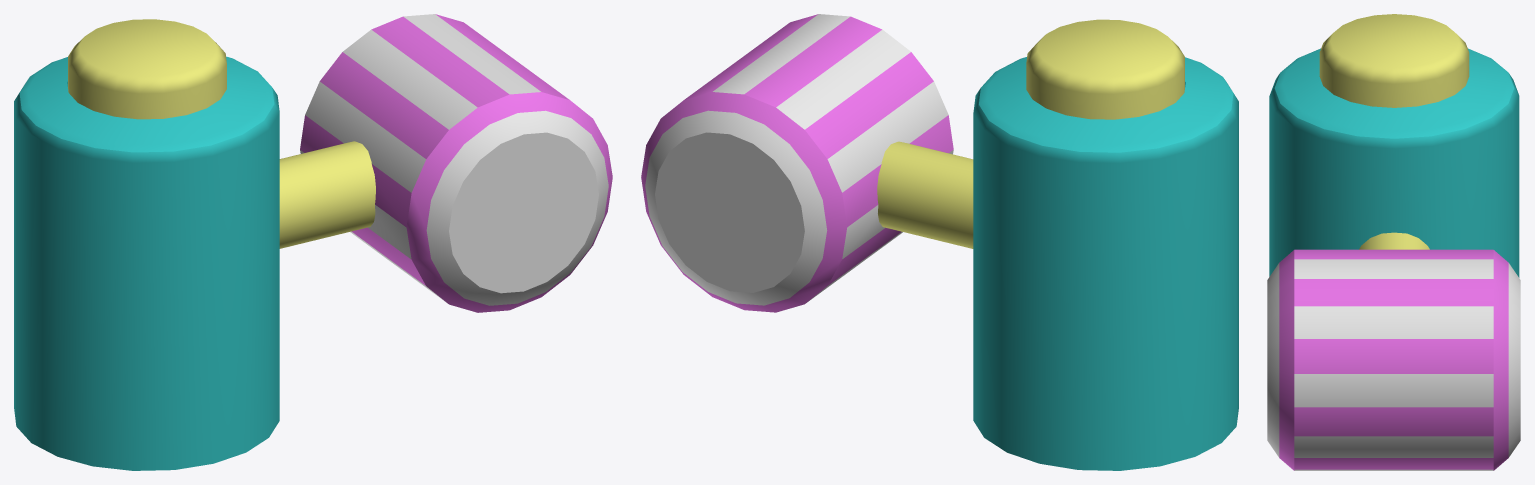
Rendered from Obstacle02.fbx.
The picture shows the model from 3 angles, left to right: view 1: azimuth 30°, elevation 25°; view 2: azimuth 150°, elevation 25°; view 3: azimuth 270°, elevation 25°; orthographic projection. The views are drawn at different scales.
Visible parts, largest first — view 1: Obstacle02_msh, Hammer_Obstacle02_msh, Turn_Obstacle02_msh; view 2: Obstacle02_msh, Hammer_Obstacle02_msh, Turn_Obstacle02_msh; view 3: Hammer_Obstacle02_msh, Obstacle02_msh, Turn_Obstacle02_msh.
Part boxes in pixels (x1=…): Obstacle02_msh: x1=14, y1=19, x2=279, y2=470; Hammer_Obstacle02_msh: x1=300, y1=14, x2=612, y2=312; Turn_Obstacle02_msh: x1=279, y1=141, x2=375, y2=248; Obstacle02_msh: x1=973, y1=19, x2=1238, y2=470; Hammer_Obstacle02_msh: x1=641, y1=14, x2=953, y2=312; Turn_Obstacle02_msh: x1=877, y1=141, x2=973, y2=248; Hammer_Obstacle02_msh: x1=1267, y1=249, x2=1520, y2=470; Obstacle02_msh: x1=1269, y1=14, x2=1519, y2=277; Turn_Obstacle02_msh: x1=1359, y1=232, x2=1429, y2=249.
Size of the model in its own units: 4.56 by 3.03 by 2.02.
